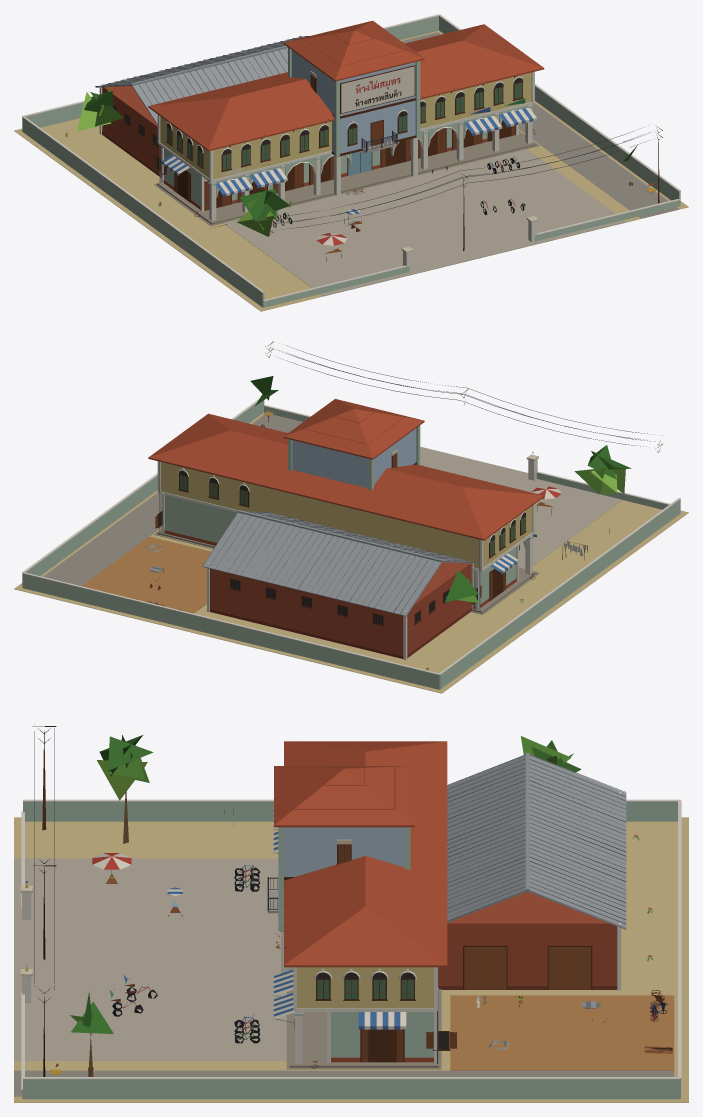
File: store.glb
3 renders of one model, top to bottom at view 1: azimuth 30°, elevation 25°; view 2: azimuth 150°, elevation 25°; view 3: azimuth 270°, elevation 25°, orthographic. The views are drawn at different scales.
Visible parts, largest first — view 1: body, windows; view 2: body, windows; view 3: body, windows.
Boxes of the visible parts, bbox=[...] form: body: bbox=[14, 14, 688, 311]; windows: bbox=[113, 78, 522, 171]; body: bbox=[14, 341, 688, 693]; windows: bbox=[158, 457, 525, 624]; body: bbox=[14, 724, 688, 1102]; windows: bbox=[25, 846, 448, 1048].
Size of the model in its own units: 47.9 by 15.34 by 47.9.
